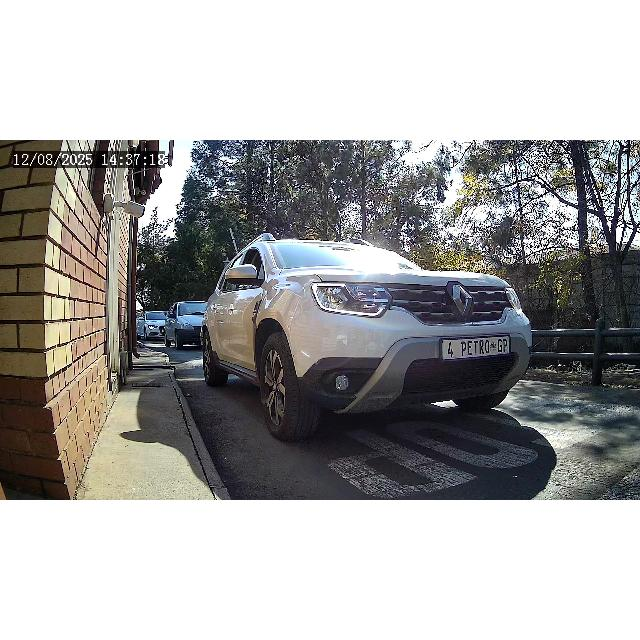car: (199, 235, 535, 441), (164, 300, 208, 350), (135, 309, 167, 341)
plate: (441, 338, 509, 358)
